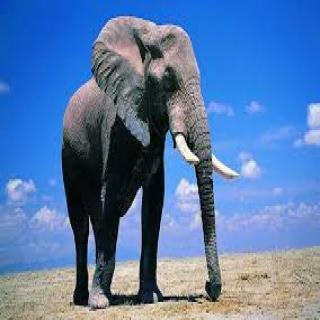Elephant: (59, 9, 244, 313)
